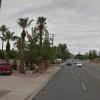Palm tree: (13, 9, 54, 62)
